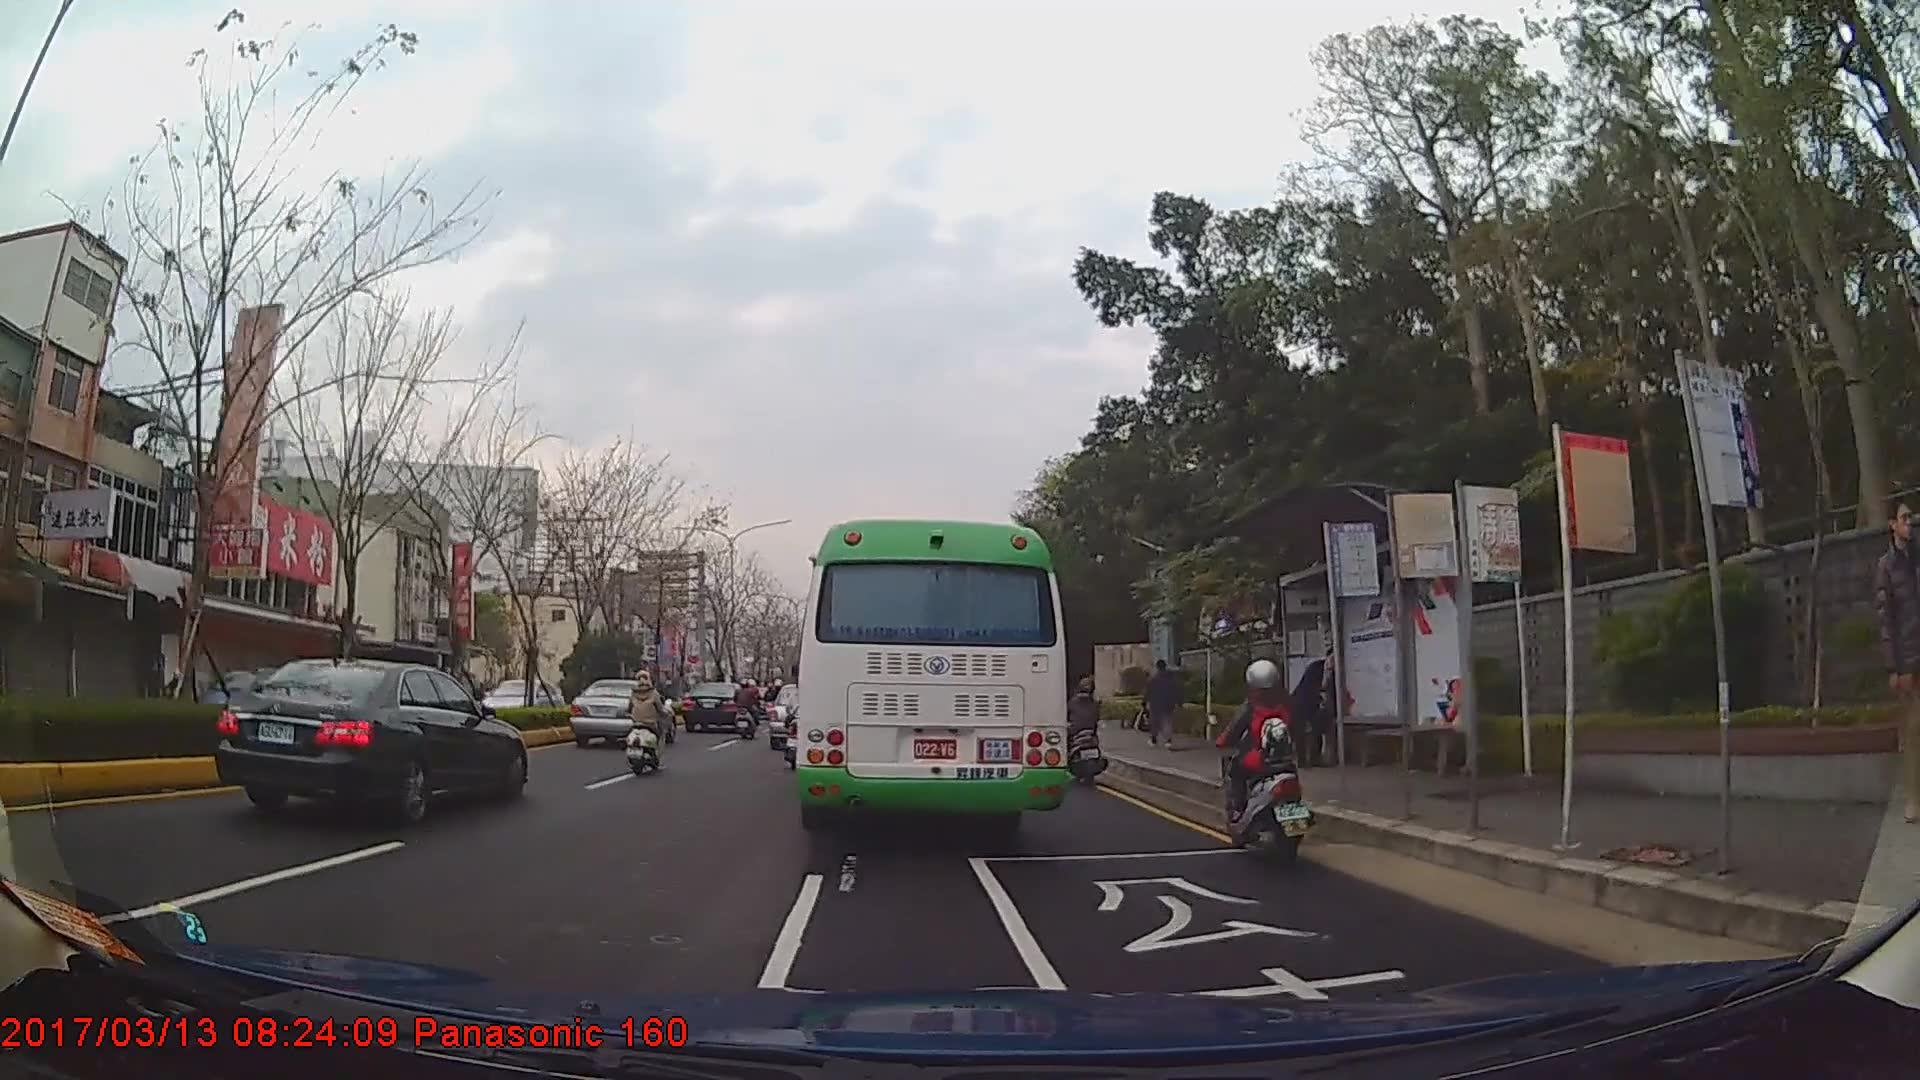pedestrian: (1869, 500, 1920, 826), (1291, 643, 1348, 772), (1138, 656, 1183, 749)
rider: (1214, 661, 1318, 864), (1062, 674, 1110, 786), (626, 669, 672, 774), (735, 677, 760, 738), (160, 669, 187, 699)
vehicle: (794, 516, 1068, 836), (207, 659, 525, 823), (570, 677, 678, 748), (471, 673, 564, 728), (682, 677, 749, 731)
